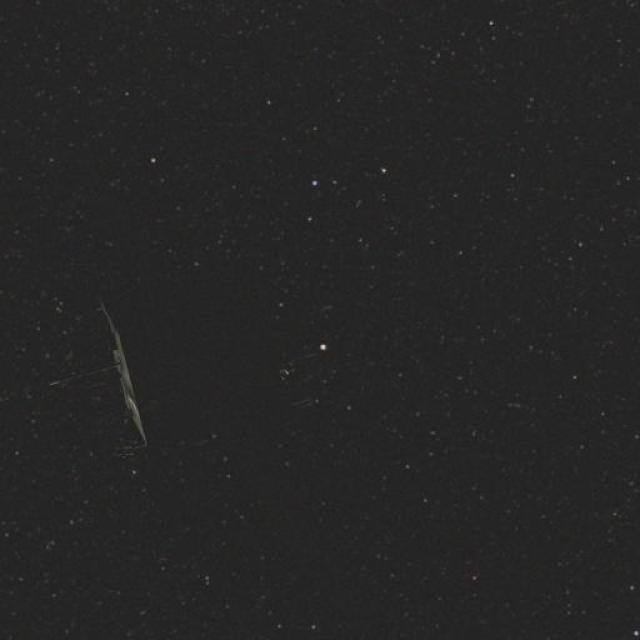smart_1: (54, 249, 316, 456)
